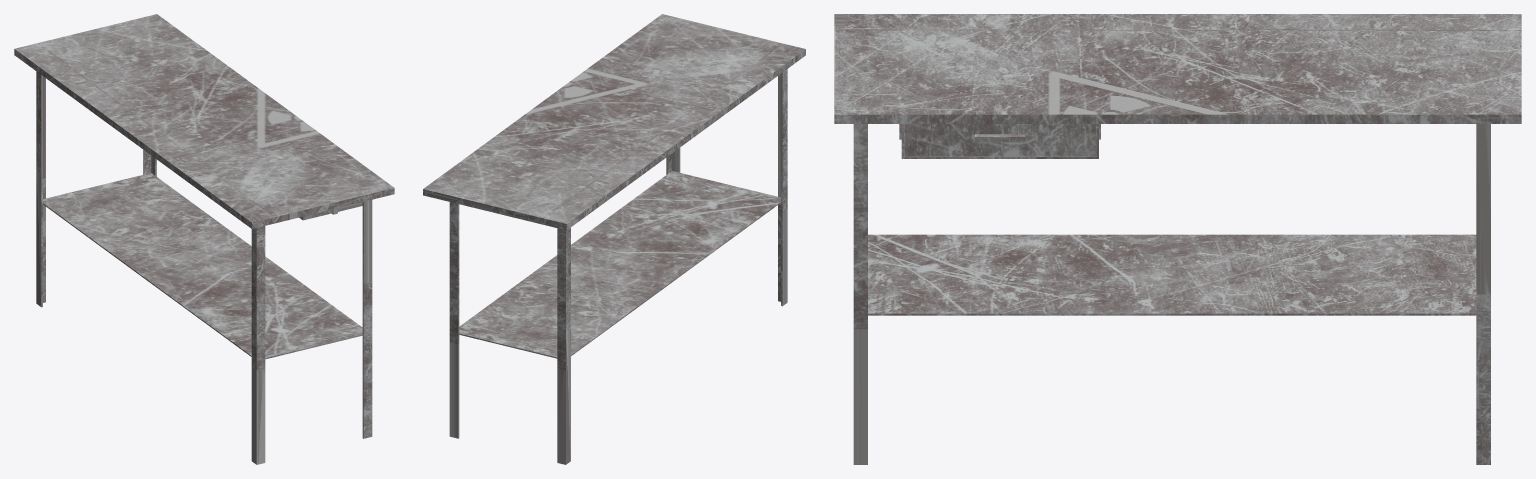
3 views of the same model, side by side, from view 1: azimuth 30°, elevation 25°; view 2: azimuth 150°, elevation 25°; view 3: azimuth 270°, elevation 25° (orthographic). The views are drawn at different scales.
Visible parts, largest first — view 1: table; view 2: table; view 3: table, drawer.
Part boxes in pixels (x1=…): table: x1=14, y1=14, x2=394, y2=464; table: x1=423, y1=14, x2=805, y2=464; table: x1=834, y1=14, x2=1521, y2=464; drawer: x1=904, y1=124, x2=1095, y2=156.
Size of the model in its own units: 0.6936 by 1.16 by 2.
